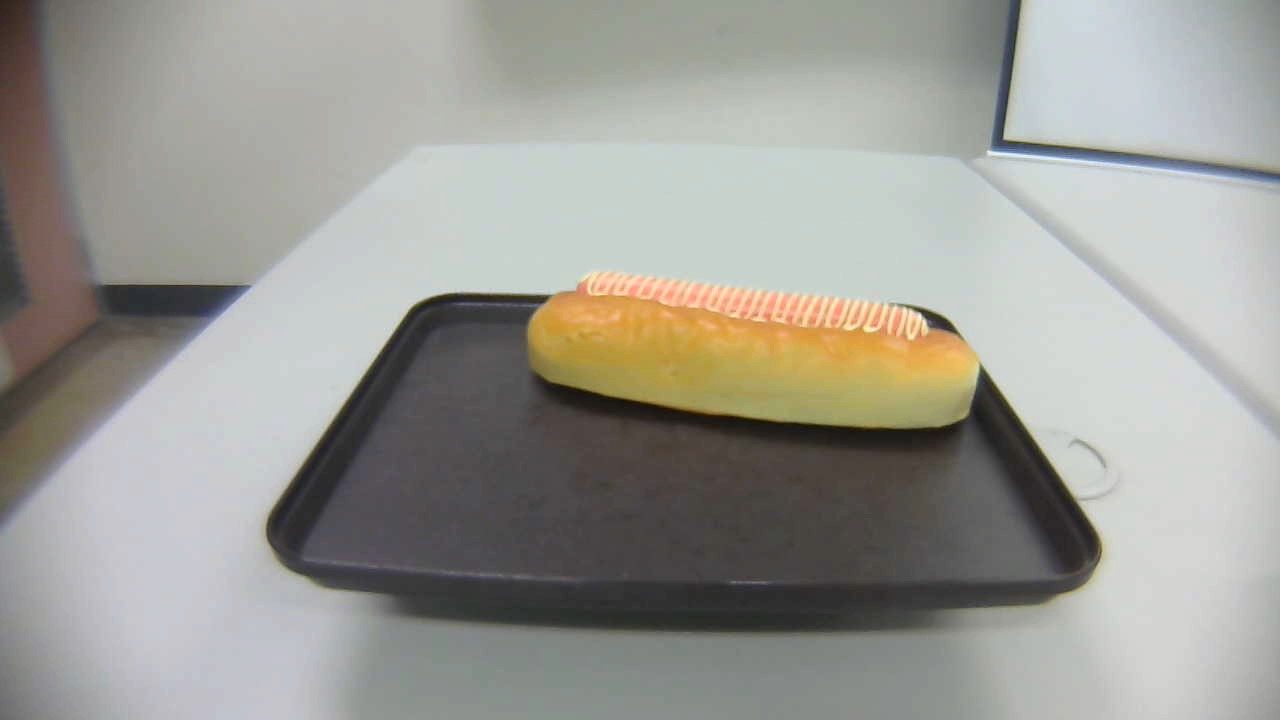hot dog: (524, 269, 980, 430)
